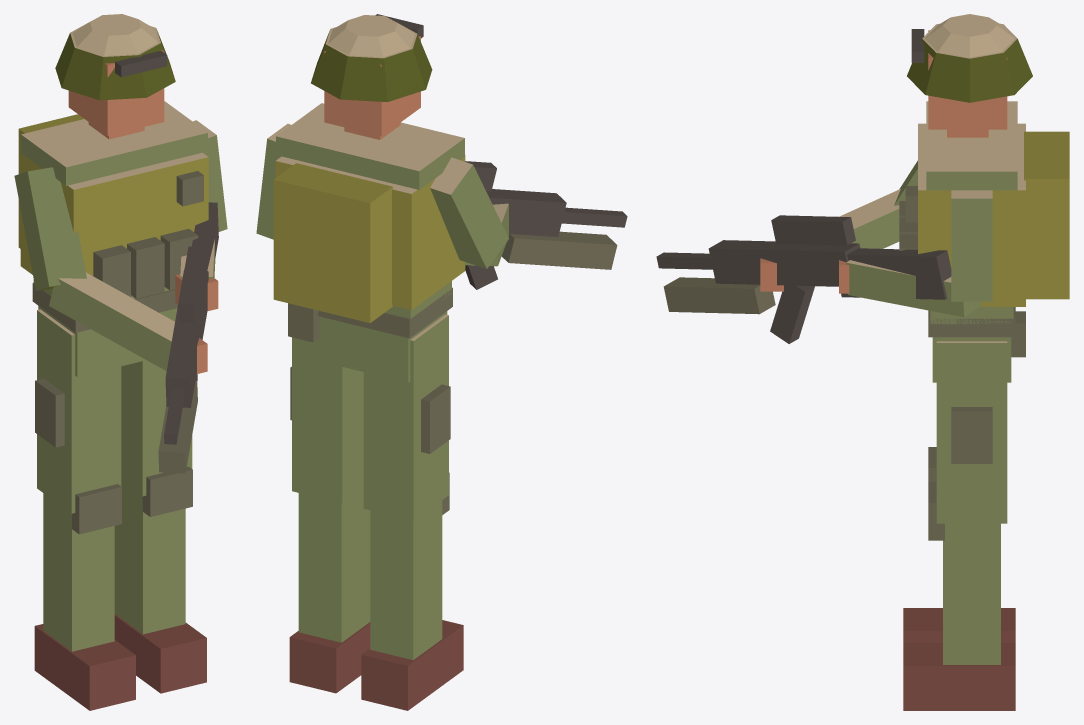
The model's file is SM_SoldadoArmado_v1_G36E_AG36_Reposo_LOD0.fbx.
3 views of the same model, side by side, from view 1: azimuth 30°, elevation 25°; view 2: azimuth 150°, elevation 25°; view 3: azimuth 270°, elevation 25° (orthographic).
Visible parts, largest first — view 1: SM_bloques.soldado_armado_v1_LOD0; view 2: SM_bloques.soldado_armado_v1_LOD0; view 3: SM_bloques.soldado_armado_v1_LOD0.
Boxes of the visible parts, left/top/right/bottom form: SM_bloques.soldado_armado_v1_LOD0: left=14, top=14, right=227, bottom=710; SM_bloques.soldado_armado_v1_LOD0: left=256, top=14, right=627, bottom=710; SM_bloques.soldado_armado_v1_LOD0: left=656, top=14, right=1069, bottom=710.
Bounding box in the file's own units: 0.5789 × 1.75 × 0.995.
